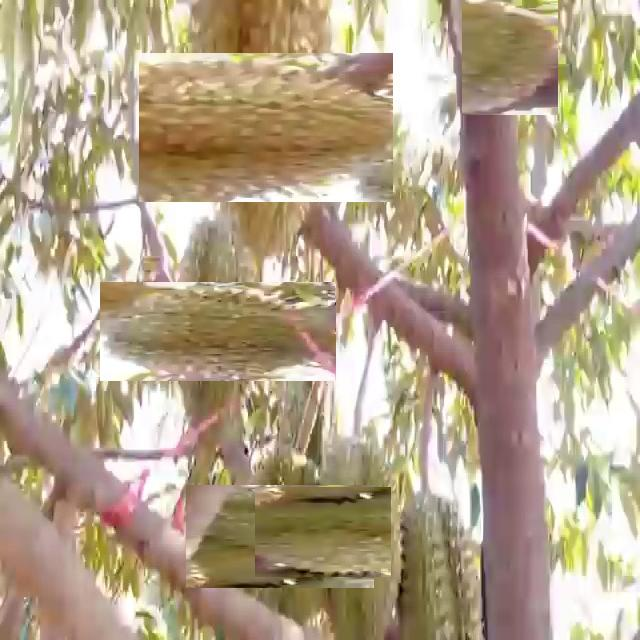durian: (165, 26, 367, 228), (134, 247, 302, 415), (285, 456, 436, 608), (206, 463, 352, 610), (391, 478, 488, 638), (455, 0, 566, 107)
